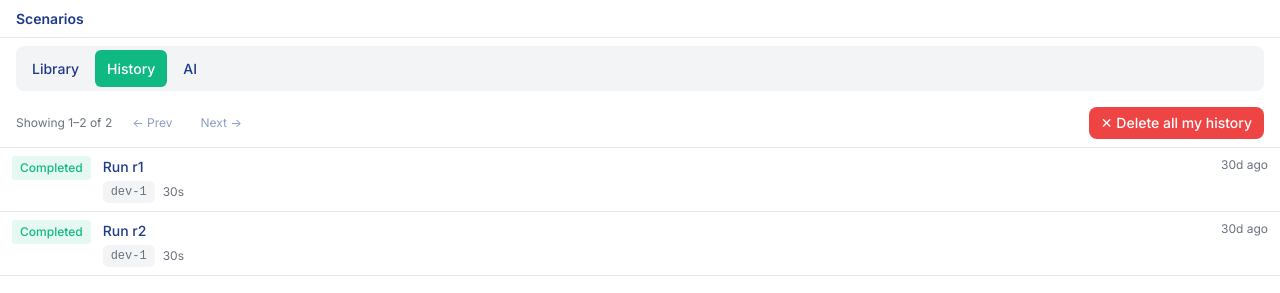
Test: ScenariosPanel — history list & detail navigation › transitions to history_detail when a History row is clicked
This screenshot has width=1280, height=293.
Click the button with test id "history-row-r1": coordinates (51, 168) [0,148,1279,212]
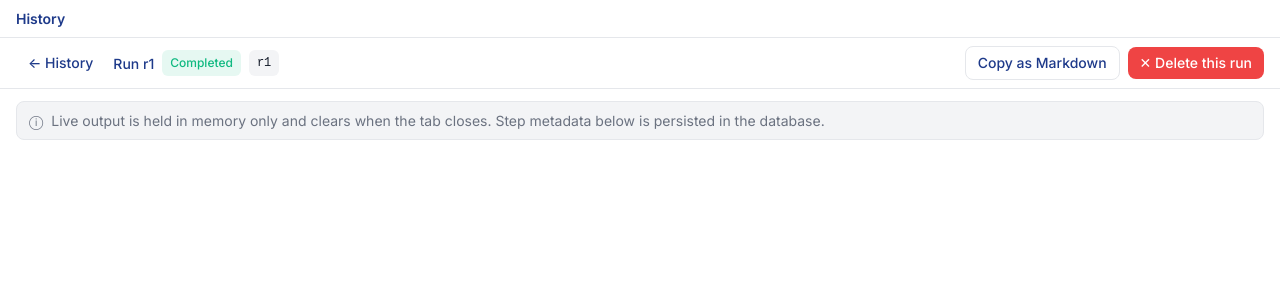
Result: the element with test id "scenarios-history-detail" is shown at [0,38,1279,140]
